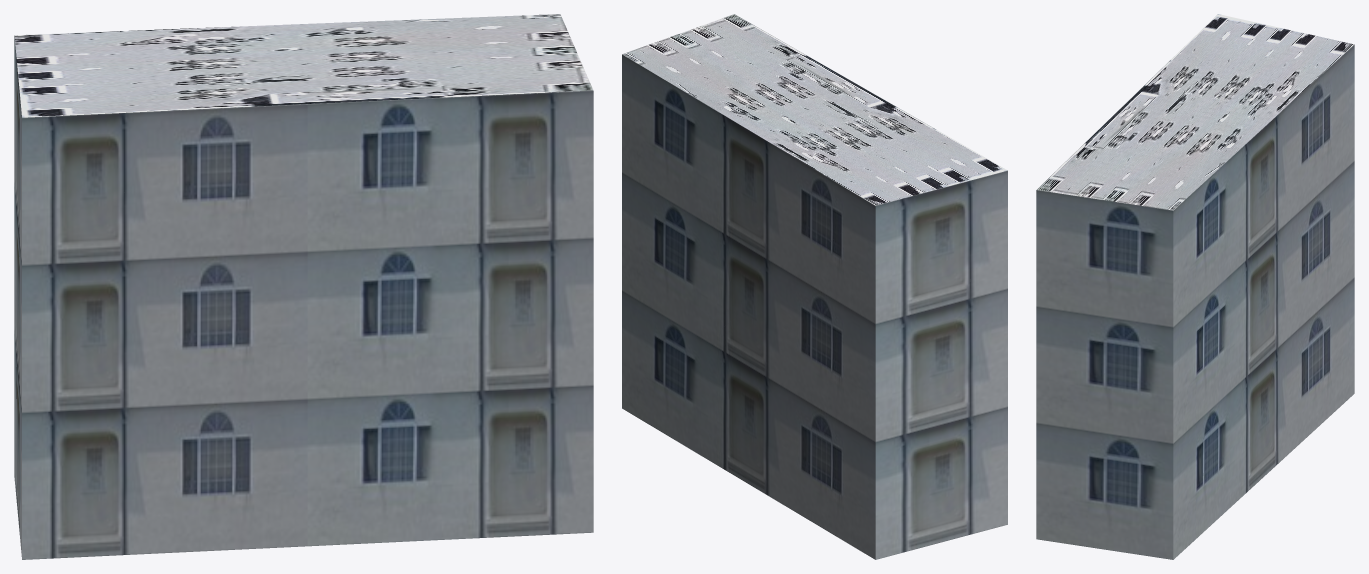
File: ResTex__4896.fbx
3 renders of one model, left to right at view 1: azimuth 30°, elevation 25°; view 2: azimuth 150°, elevation 25°; view 3: azimuth 270°, elevation 25°, orthographic. The views are drawn at different scales.
Parts seen in each view (by area): view 1: CityEngineMaterial_17_m, CityEngineMaterial_2_m; view 2: CityEngineMaterial_17_m, CityEngineMaterial_2_m; view 3: CityEngineMaterial_17_m, CityEngineMaterial_2_m.
Boxes of the visible parts, <box> form: CityEngineMaterial_17_m: <box>14,35,593,559</box>; CityEngineMaterial_2_m: <box>14,14,593,117</box>; CityEngineMaterial_17_m: <box>622,54,1007,559</box>; CityEngineMaterial_2_m: <box>622,14,1007,205</box>; CityEngineMaterial_17_m: <box>1036,44,1354,559</box>; CityEngineMaterial_2_m: <box>1037,14,1353,210</box>.
Bounding box in the file's own units: 10.86 × 9 × 7.43.
Materials: 2 (2 with a texture image).
